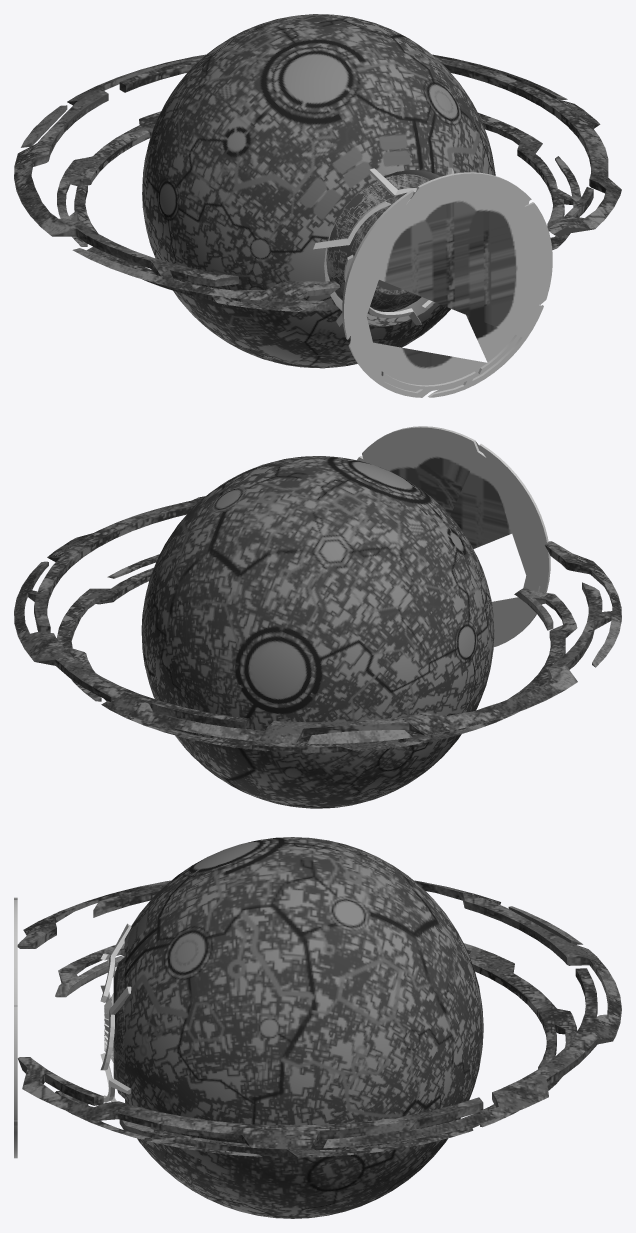
The model's file is bossUnity.fbx.
3 views of the same model, one above another, from view 1: azimuth 30°, elevation 25°; view 2: azimuth 150°, elevation 25°; view 3: azimuth 270°, elevation 25° (orthographic). The views are drawn at different scales.
Visible parts, largest first — view 1: PlanetX, Disk, Disk1; view 2: PlanetX, Disk; view 3: PlanetX, Disk1, Disk.
Part boxes in pixels (bbox=[...]): PlanetX: bbox=[14, 14, 621, 368]; Disk: bbox=[342, 172, 552, 397]; Disk1: bbox=[313, 167, 453, 326]; PlanetX: bbox=[14, 456, 621, 808]; Disk: bbox=[357, 426, 550, 646]; PlanetX: bbox=[17, 837, 621, 1218]; Disk1: bbox=[100, 923, 131, 1102]; Disk: bbox=[14, 897, 17, 1158].
Bounding box in the file's own units: 555 × 322 × 513.
